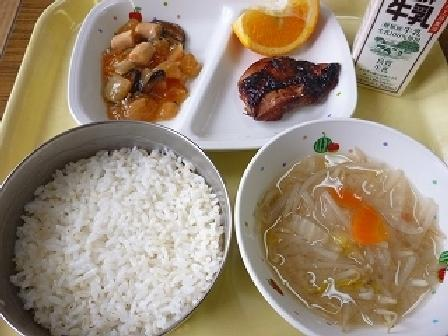Citrus: (228, 8, 335, 56)
Meat: (230, 50, 348, 123)
Milk: (343, 0, 446, 84)
Rice: (2, 119, 221, 334)
Soups: (246, 128, 447, 328)
vegetable based cooked food: (85, 17, 204, 120)
